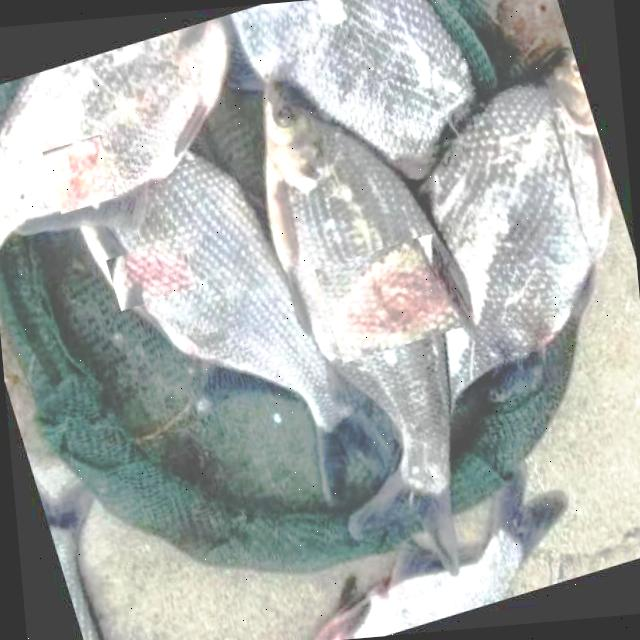Aeromonas Septicemia: (82, 151, 394, 508), (266, 80, 477, 577), (0, 15, 233, 253)
